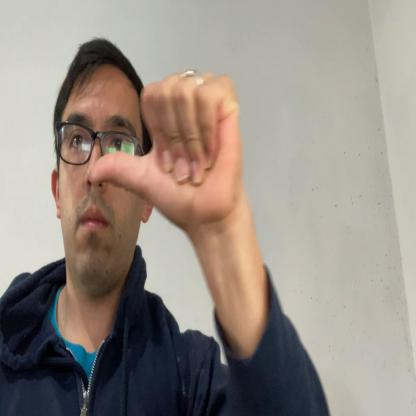A: (86, 69, 242, 229)
